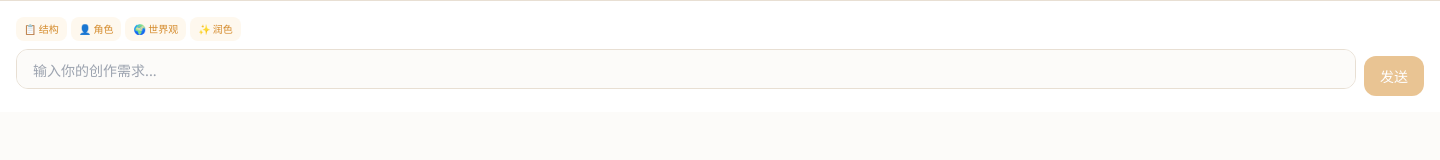
Scenario: ChatInput › should insert marker at cursor position
Type "hello world" into the text box with placeholder "输入你的创作需求..." at (686, 69), box [16, 49, 1356, 89]
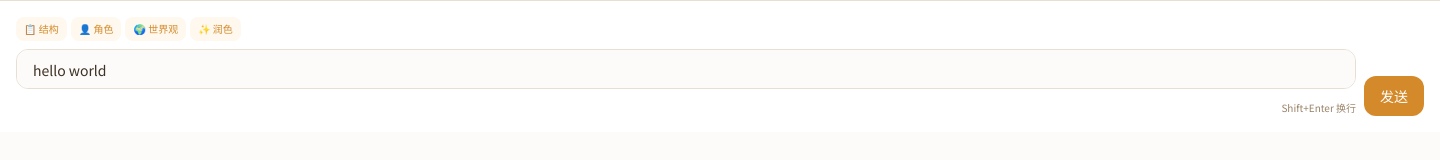
Click the button titled "插入润色技能" at (216, 29), box [190, 17, 241, 41]
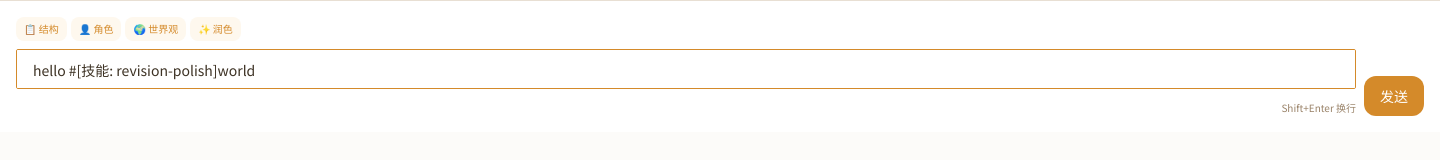
Expected: the text box with placeholder "输入你的创作需求..." holds "hello #[技能: revision-polish]world", [16, 49, 1356, 89]
